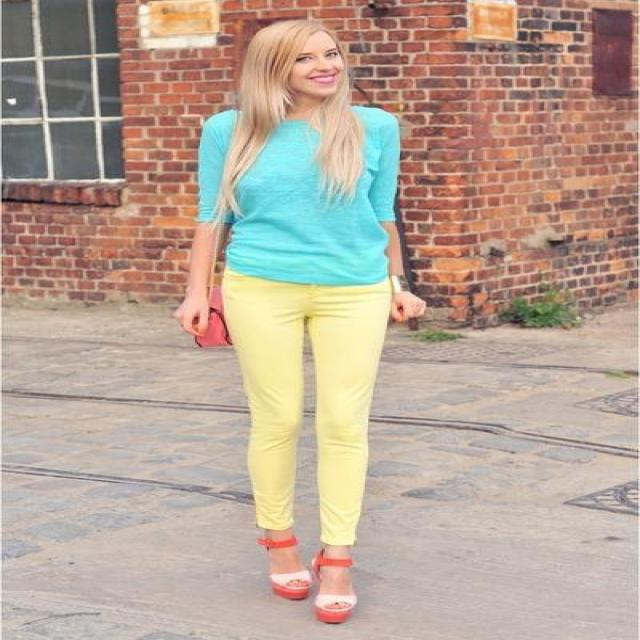jacket: (194, 106, 400, 284)
pants: (221, 269, 398, 549)
shoe: (258, 528, 355, 624)
